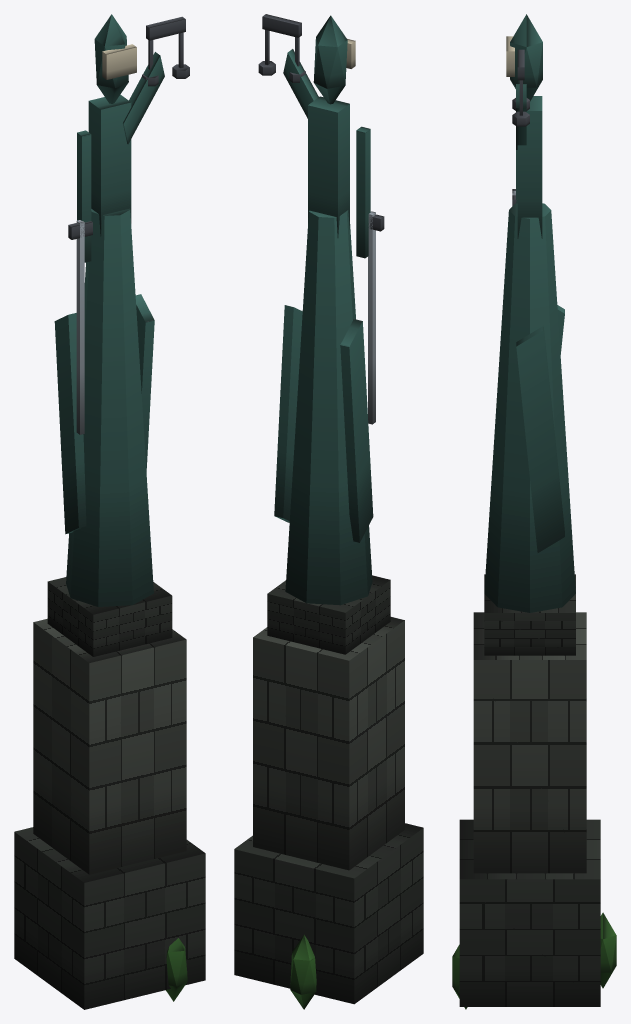
File: draped_statue.gltf
3 views of the same model, side by side, from view 1: azimuth 30°, elevation 25°; view 2: azimuth 150°, elevation 25°; view 3: azimuth 270°, elevation 25° (orthographic).
Visible parts, largest first — view 1: draped_statue; view 2: draped_statue; view 3: draped_statue.
Boxes of the visible parts, x1,y1,x2,y2 form: draped_statue: [14, 14, 205, 1009]; draped_statue: [234, 14, 423, 1009]; draped_statue: [452, 14, 616, 1009].
Bounding box in the file's own units: 1.1 × 7.67 × 1.16.
1 material, 1 textured.
